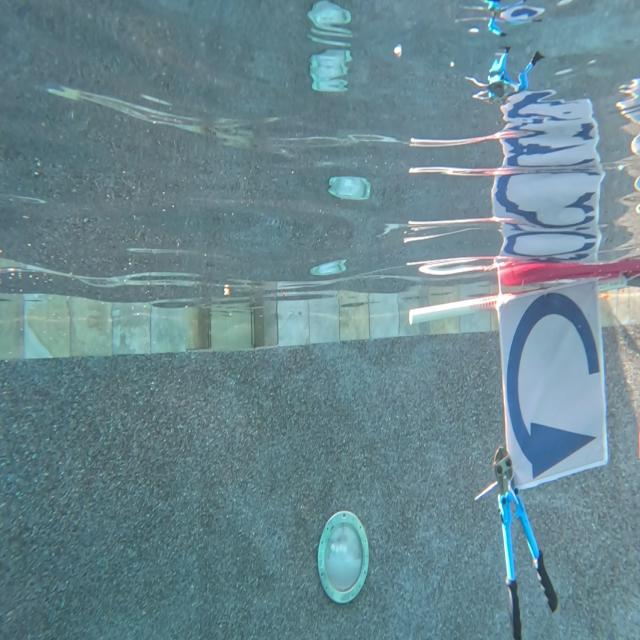blue_side: (500, 277, 611, 486)
